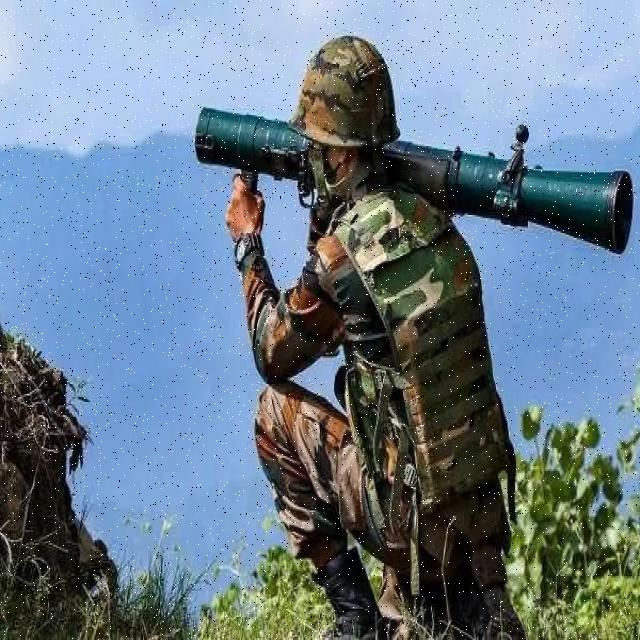bazooka: (192, 98, 637, 273)
